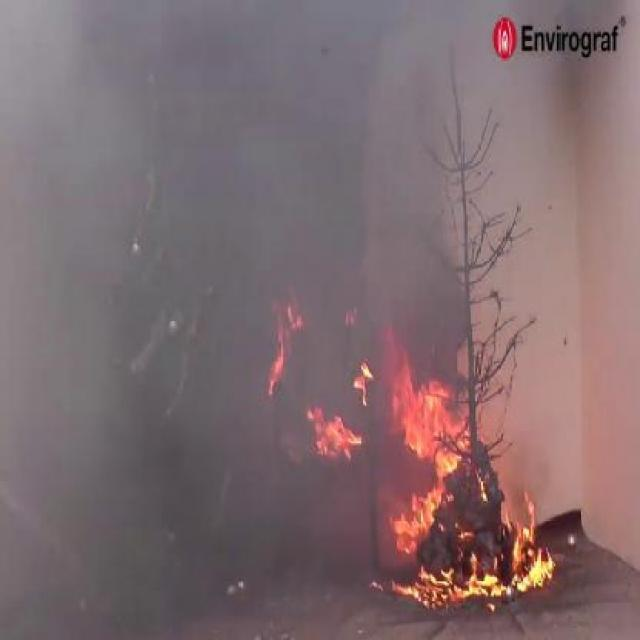fire: (281, 303, 568, 606)
smoke: (16, 34, 342, 598)
